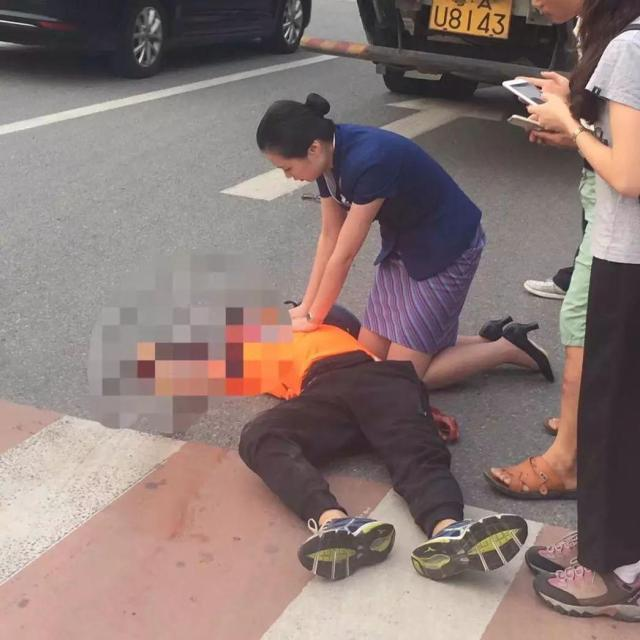fall: (159, 250, 562, 596)
